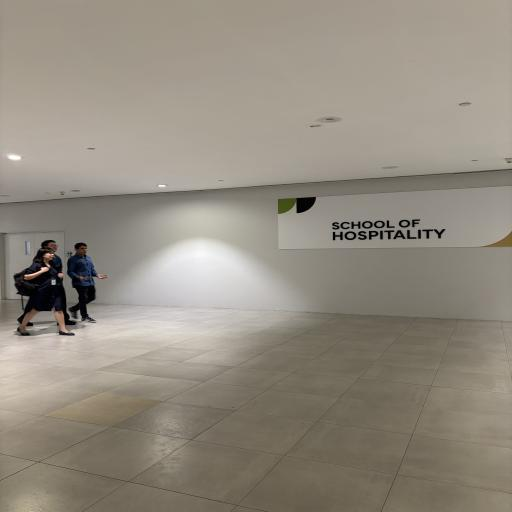person_right: (24, 230, 71, 336), (67, 238, 111, 328)
